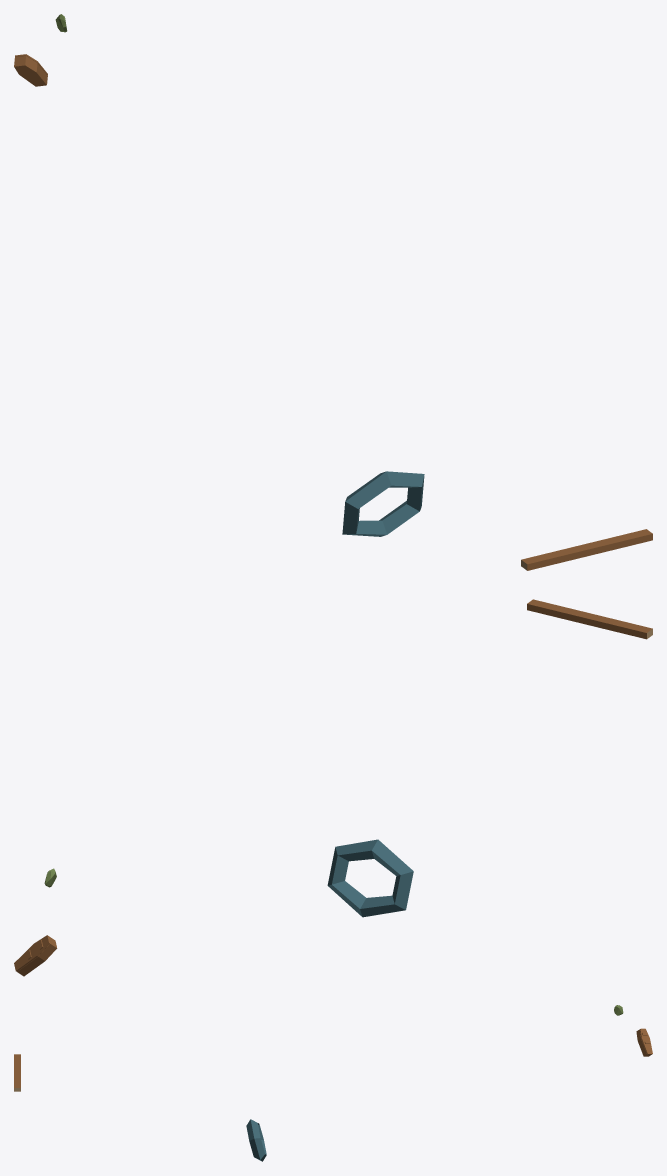
3 renders of one model, top to bottom at view 1: azimuth 30°, elevation 25°; view 2: azimuth 150°, elevation 25°; view 3: azimuth 270°, elevation 25°, orthographic. The views are drawn at different scales.
Parts seen in each view (by area): view 1: Torus008_metal_0, Box15407_brown_0; view 2: Torus008_metal_0, Box15407_brown_0, Box15284_brown_0; view 3: Torus008_metal_0, Box15284_brown_0.
Part boxes in pixels (x1,y1,x2,y2): Torus008_metal_0: (342, 471, 424, 536); Box15407_brown_0: (521, 529, 652, 570); Torus008_metal_0: (327, 839, 413, 917); Box15407_brown_0: (527, 599, 652, 639); Box15284_brown_0: (14, 935, 57, 976); Torus008_metal_0: (246, 1119, 266, 1161); Box15284_brown_0: (636, 1028, 652, 1056).
Size of the model in its own units: 541 by 1175 by 4321.
